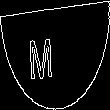M_N: (42, 28, 68, 82)
